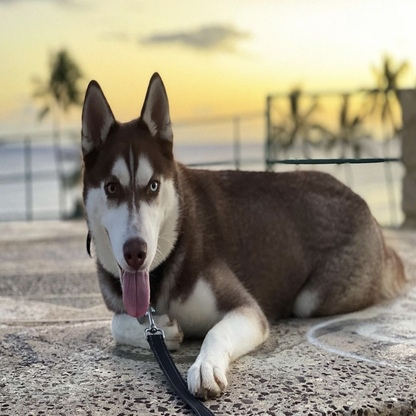husky: (73, 70, 415, 402)
